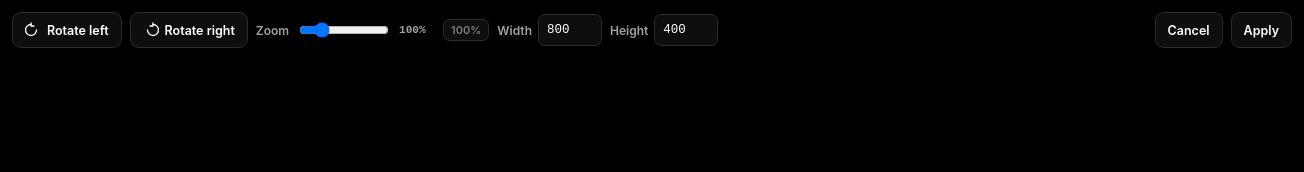
EditToolbar › the zoom slider reads and drives the draft store zoom (R-C7)
Expected: the text with test id "edit-zoom-readout" reads "100%", [399, 24, 426, 36]
Set the slider with test id "edit-zoom-slider" to "2": (342, 30) [299, 22, 389, 38]
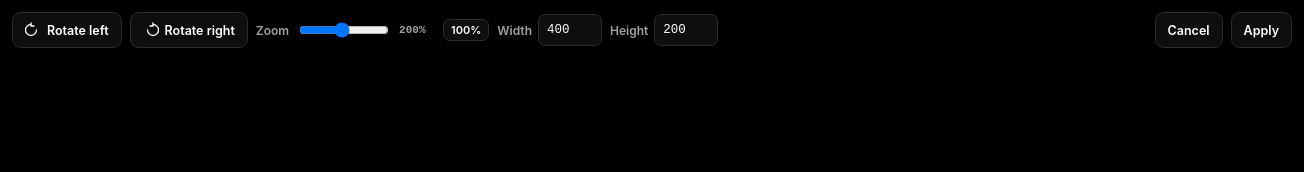
Result: the text with test id "edit-zoom-readout" reads "200%" at [399, 24, 426, 36]
